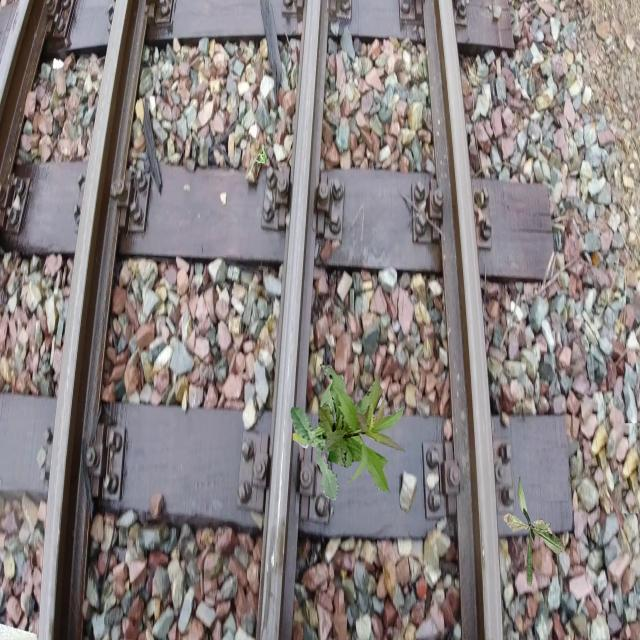Plant: (318, 364, 406, 494), (290, 376, 352, 501), (502, 476, 566, 588), (255, 144, 269, 164)
